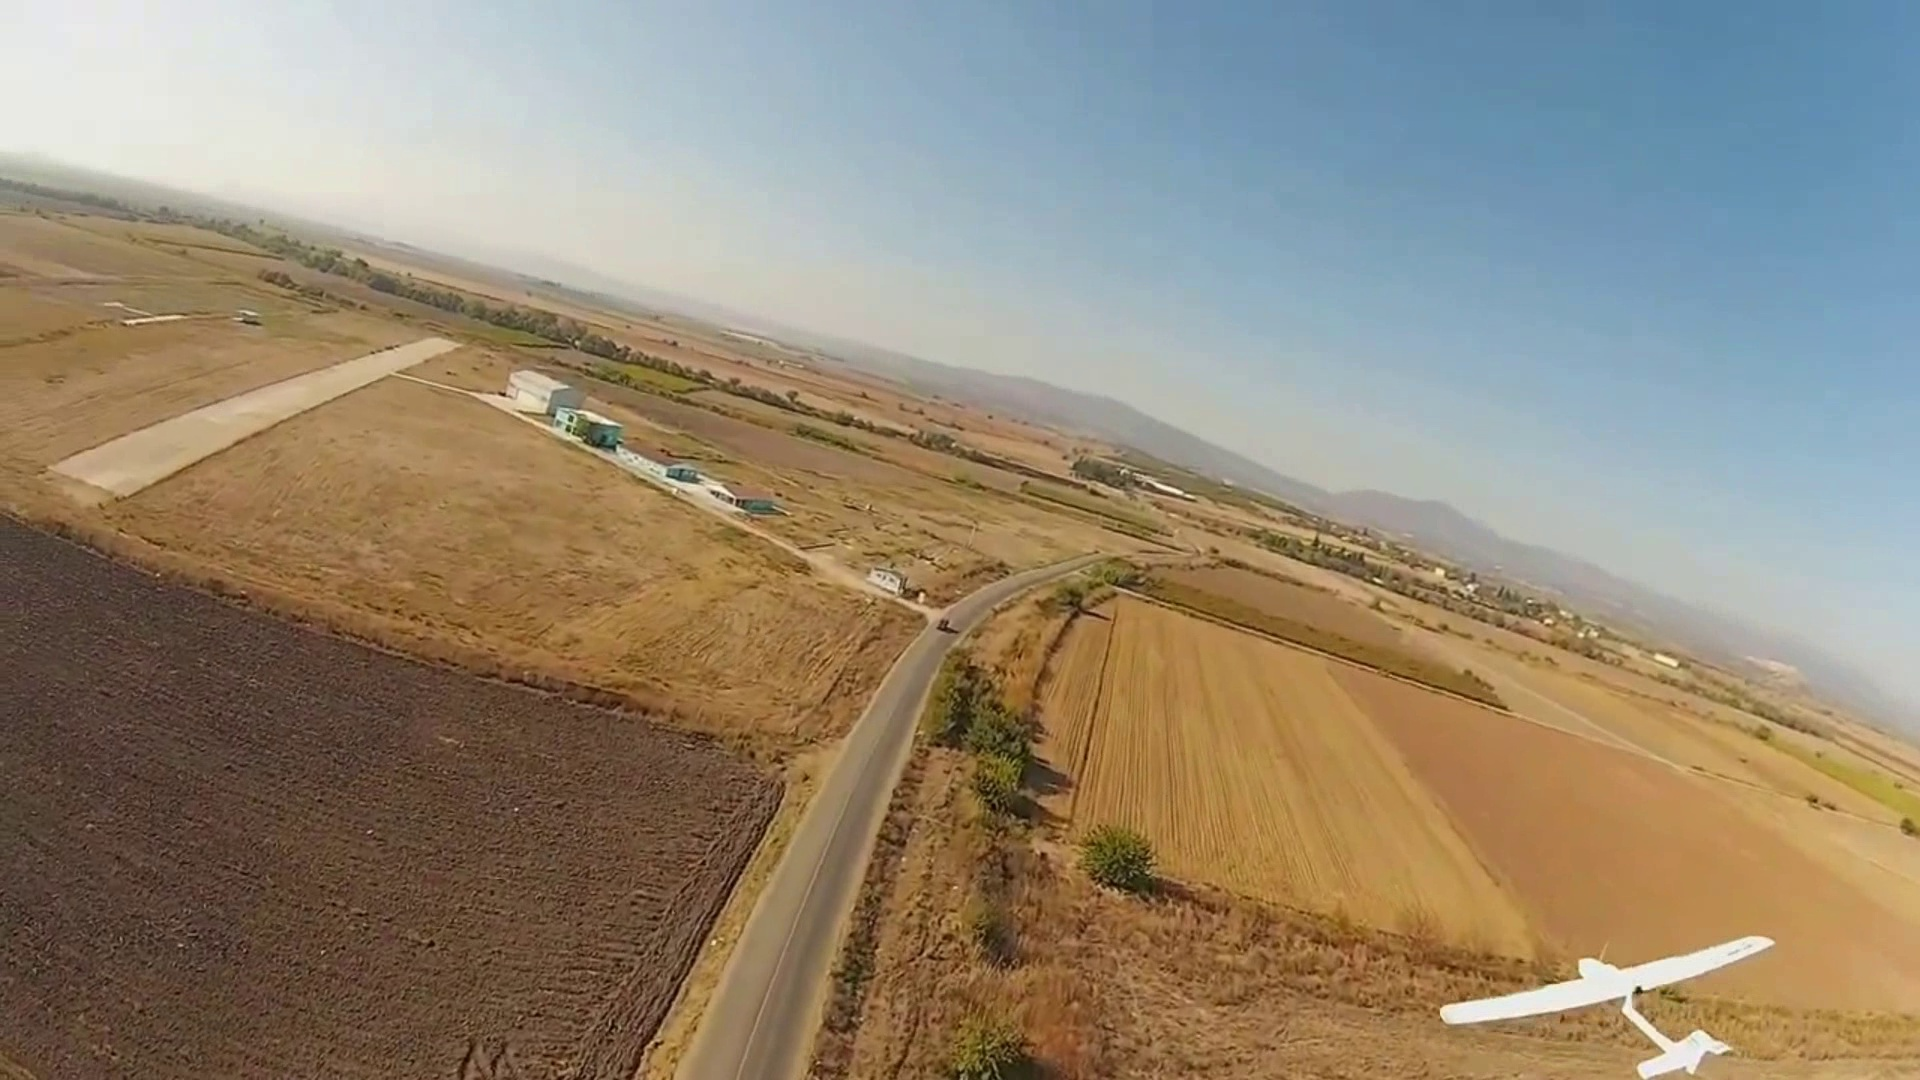airplane: (1440, 935, 1779, 1077)
